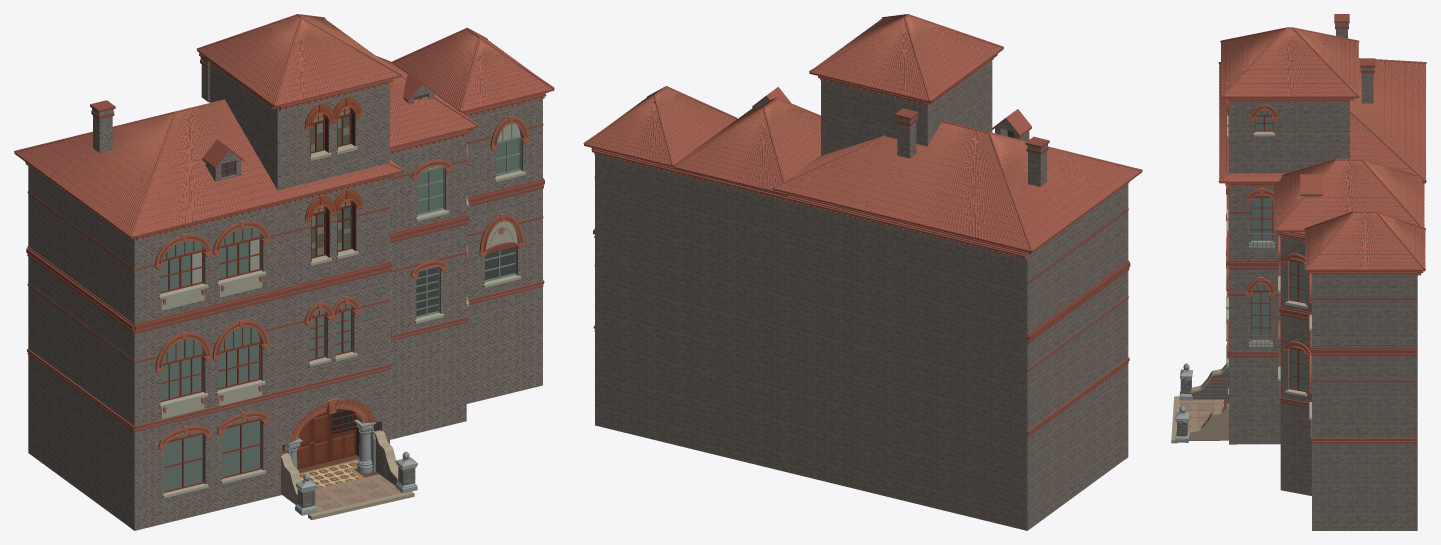
File: jingan-lutheran-residence-changde-310-raw.glb
3 renders of one model, left to right at view 1: azimuth 30°, elevation 25°; view 2: azimuth 150°, elevation 25°; view 3: azimuth 270°, elevation 25°, orthographic. The views are drawn at different scales.
Visible parts, largest first — view 1: 常德路310号信义会住宅的街面与庭院门廊; view 2: 常德路310号信义会住宅的街面与庭院门廊; view 3: 常德路310号信义会住宅的街面与庭院门廊.
Boxes of the visible parts, bbox=[...] form: 常德路310号信义会住宅的街面与庭院门廊: bbox=[14, 14, 554, 530]; 常德路310号信义会住宅的街面与庭院门廊: bbox=[583, 14, 1142, 530]; 常德路310号信义会住宅的街面与庭院门廊: bbox=[1171, 14, 1426, 530].
Bounding box in the file's own units: 23.39 × 20.98 × 12.3.
Materials: 52 (4 with a texture image).
